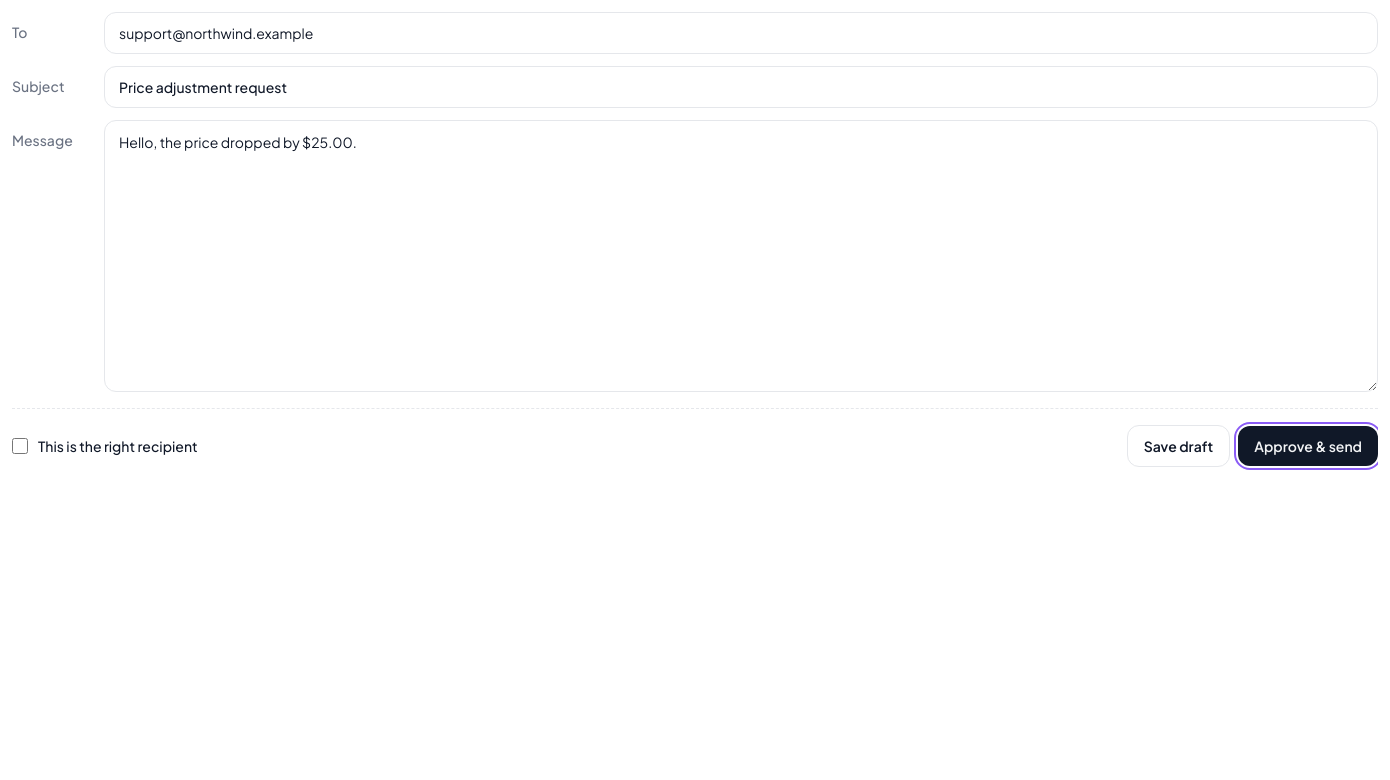
it: Composer: refusals are reachable by keyboard (DA-B-12) and acknowledgments are per refusal (DA-B-11) › moves focus to the refusal's heading, describes the send button, and puts the safe action before 'Send anyway'
The image size is (1390, 780).
Click the button "Approve & send": (1308, 446) [1238,426,1378,466]
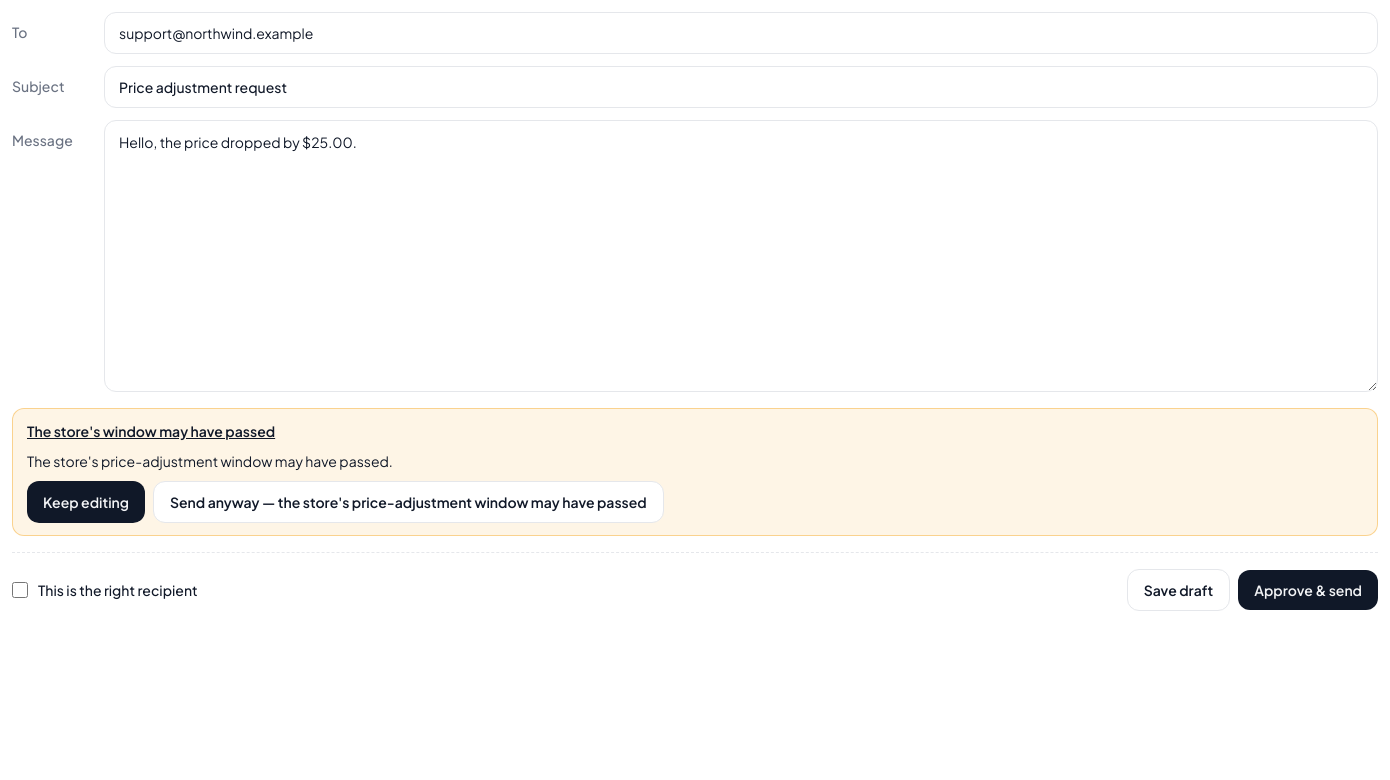
Now the buttons read "Keep editing", "Send anyway — the store's price-adjustment window may have passed", in this order
# The safe action closes the refusal and puts the user back in the message, sending nothing.
Click the button "Keep editing": (86, 502) [27,481,145,523]
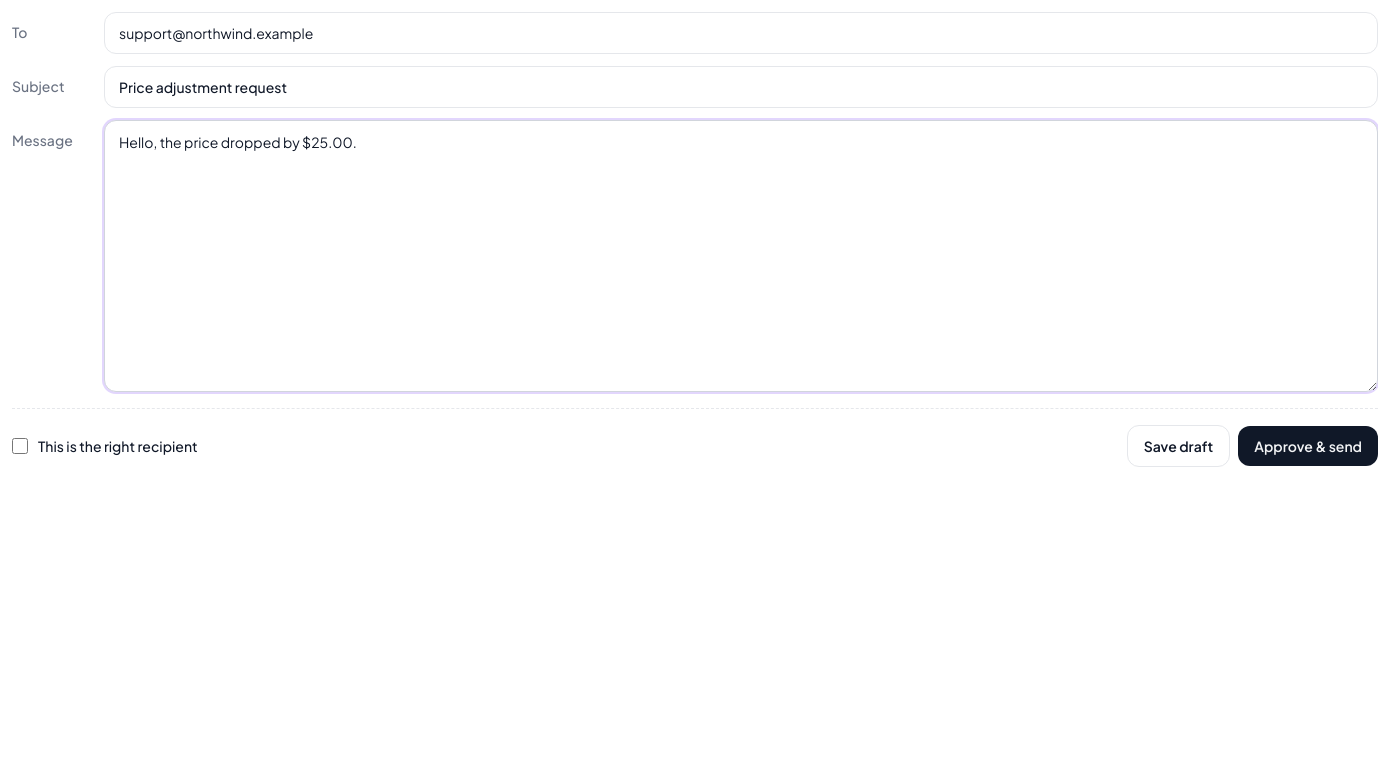
Now the heading "The store's window may have passed" is gone
